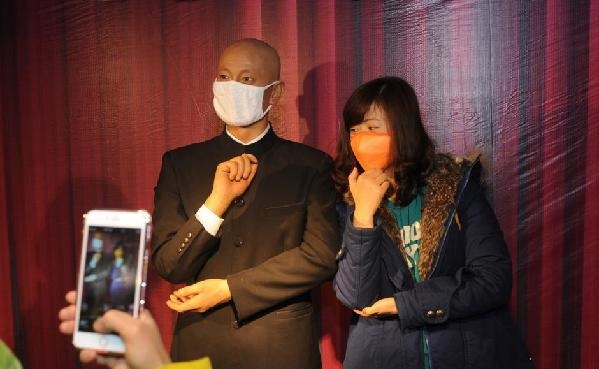face_mask: (215, 49, 265, 126), (349, 108, 390, 171)
